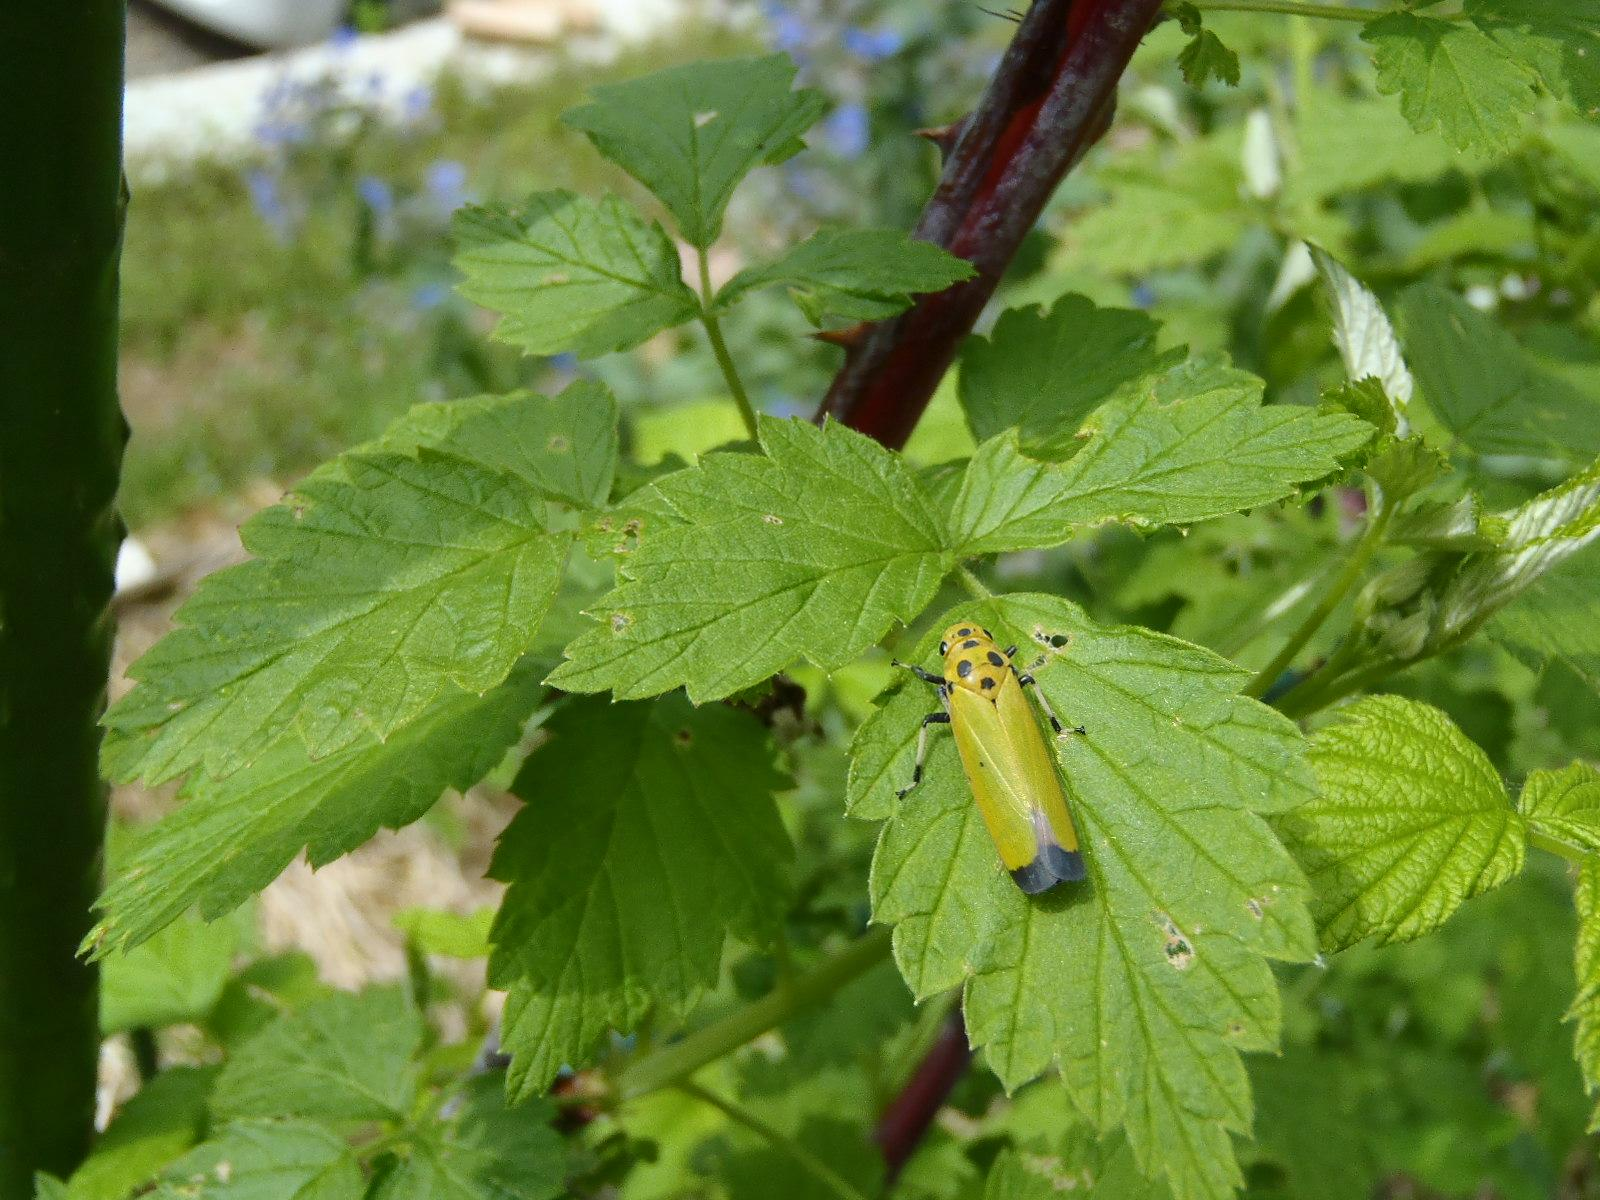Raspberry leaf: (77, 441, 661, 950), (849, 584, 1332, 1200), (499, 666, 808, 1095), (543, 395, 921, 737), (944, 350, 1388, 577), (1279, 679, 1528, 955), (572, 33, 831, 272), (428, 174, 716, 363), (718, 204, 988, 332), (963, 297, 1170, 436), (1500, 742, 1600, 858)
